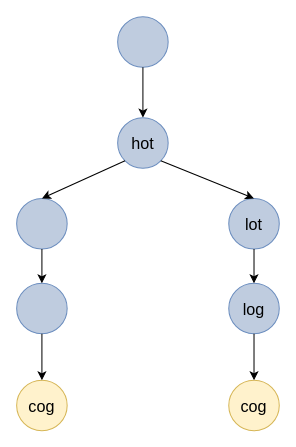
This 296x447 diagram has some shape labels left out. The shapes that lost their labels are listed below. From the top down, each one's centre as x and y in pixels, then its label:
At pixel 142 41: "hit".
At pixel 41 223: "dot".
At pixel 41 308: "dog".
